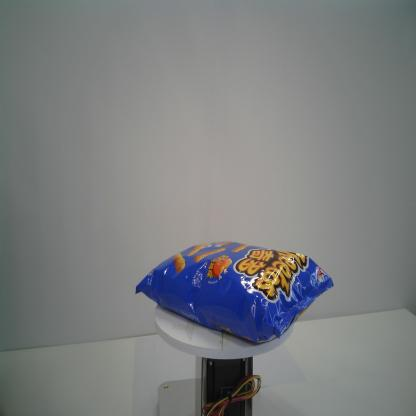Puffed Food: (135, 240, 334, 344)
